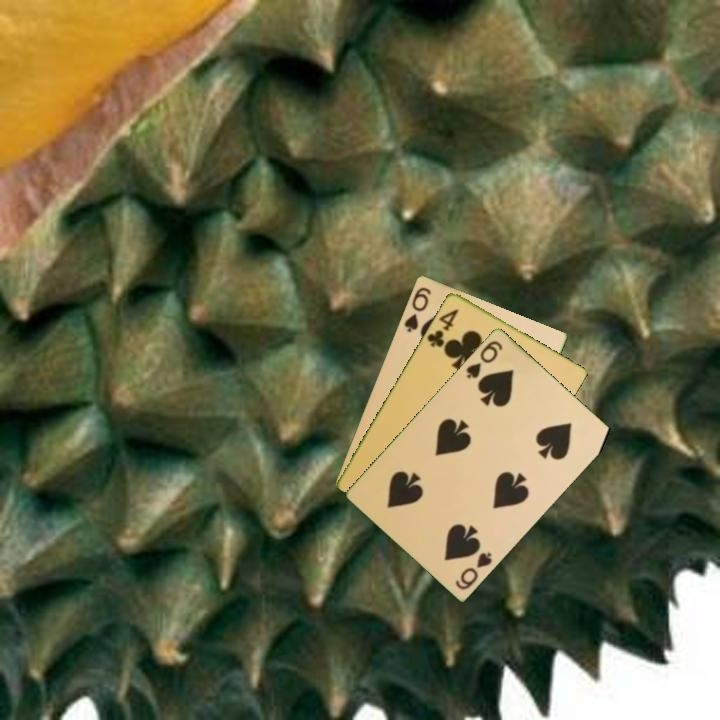4c: (423, 305, 461, 350)
6s: (452, 548, 495, 592), (463, 337, 505, 381), (400, 283, 434, 335)
